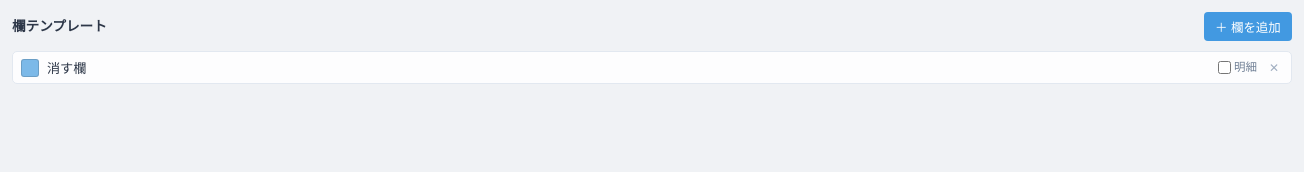
Test: FieldListPanel › 全欄を削除すると空状態に戻る
Click the button named "消す欄 を削除".
click(1274, 68)  # box [1265, 60, 1283, 75]
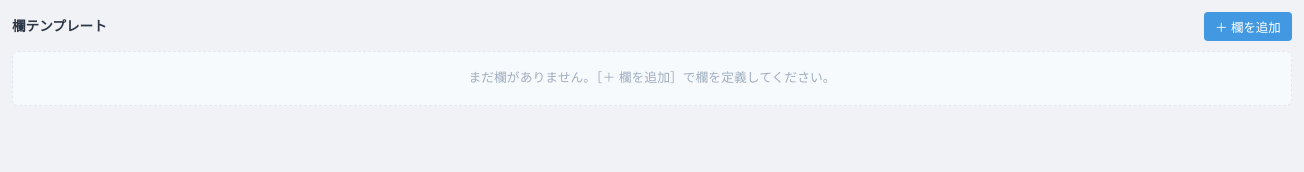
Now the text "まだ欄がありません。［＋ 欄を追加］で欄を定義してください。" is shown, box [12, 51, 1292, 106]
